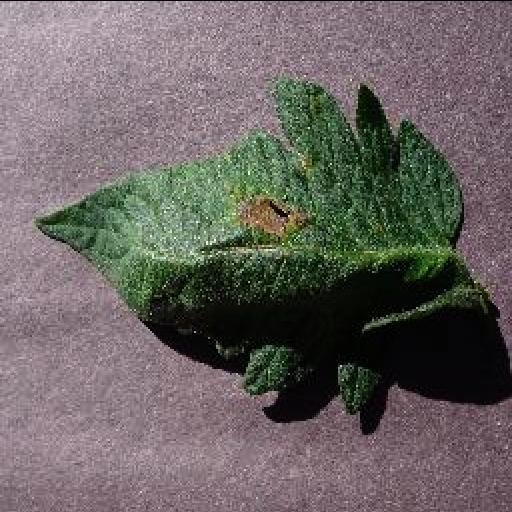Early Blight: (39, 80, 489, 409)
